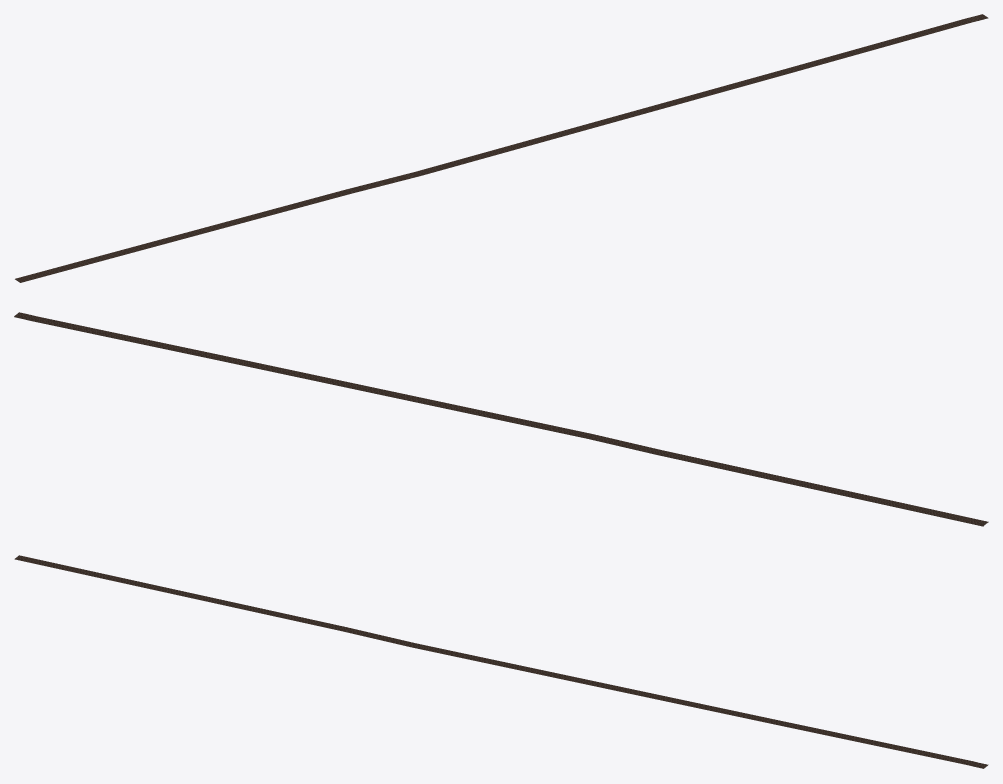
The model's file is kobe_0014.glb.
3 renders of one model, top to bottom at view 1: azimuth 30°, elevation 25°; view 2: azimuth 150°, elevation 25°; view 3: azimuth 330°, elevation 25°, orthographic. The views are drawn at different scales.
Parts seen in each view (by area): view 1: ballast_top, oxidised_rail_profiles; view 2: ballast_top, oxidised_rail_profiles, ballast_left; view 3: ballast_top, oxidised_rail_profiles.
Part boxes in pixels (x1,y1,x2,y2): ballast_top: (15, 14, 988, 282); oxidised_rail_profiles: (15, 14, 987, 281); ballast_top: (14, 312, 988, 525); oxidised_rail_profiles: (15, 312, 987, 524); ballast_left: (14, 316, 983, 526); ballast_top: (14, 555, 988, 768); oxidised_rail_profiles: (15, 555, 987, 767).
Size of the model in its own units: 754 by 0.819 by 46.43.
Materials: 4 (3 with a texture image).
